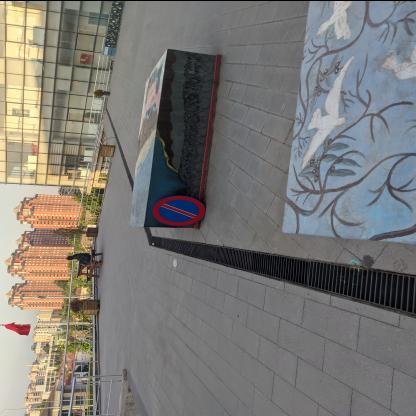No Waiting: (153, 196, 207, 226)
